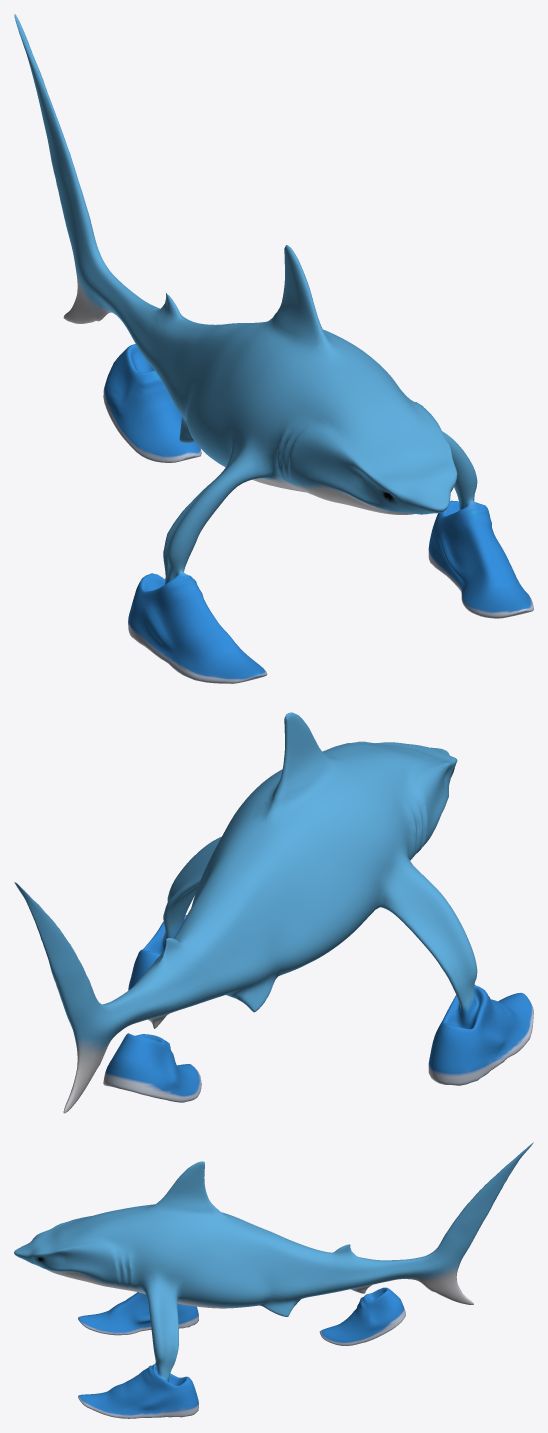
Rendered from aaa.glb.
3 renders of one model, top to bottom at view 1: azimuth 30°, elevation 25°; view 2: azimuth 150°, elevation 25°; view 3: azimuth 270°, elevation 25°, orthographic. The views are drawn at different scales.
Visible parts, largest first — view 1: model; view 2: model; view 3: model.
Part boxes in pixels (bbox=[...]): model: bbox=[14, 14, 533, 683]; model: bbox=[14, 712, 533, 1113]; model: bbox=[14, 1142, 533, 1418].
Size of the model in its own units: 1.79 by 1.82 by 3.79.
